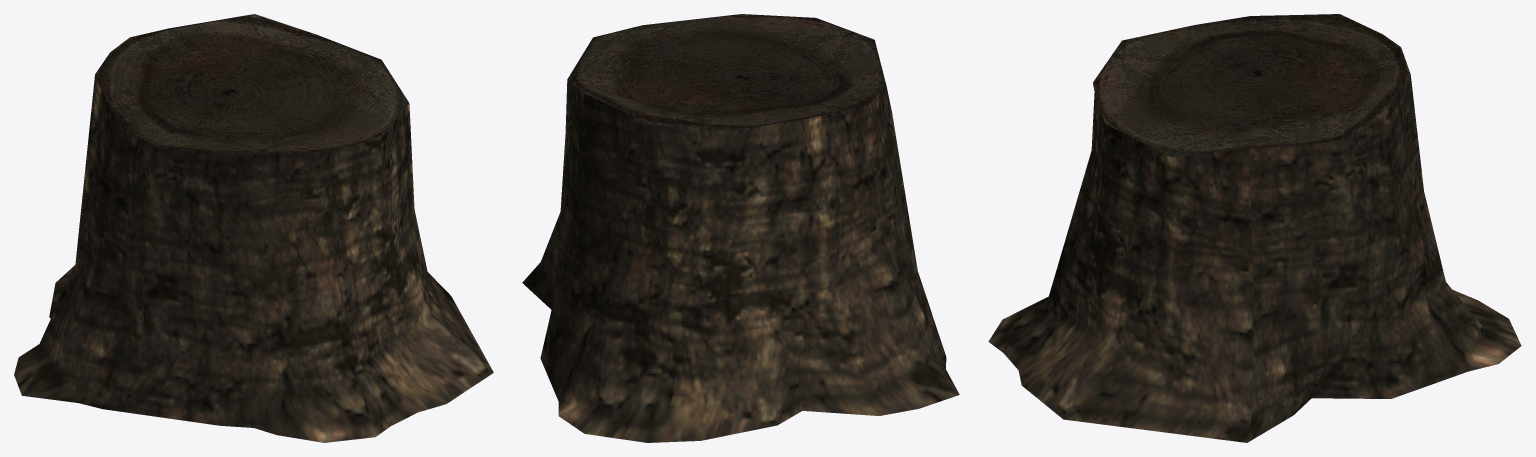
Rendered from tree_stump_1.obj.
3 renders of one model, left to right at view 1: azimuth 30°, elevation 25°; view 2: azimuth 150°, elevation 25°; view 3: azimuth 270°, elevation 25°, orthographic. The views are drawn at different scales.
Parts seen in each view (by area): view 1: tree_stump_1; view 2: tree_stump_1; view 3: tree_stump_1.
Boxes of the visible parts, box(x1,y1,x2,y2) form: tree_stump_1: box(14, 14, 493, 442); tree_stump_1: box(522, 14, 959, 442); tree_stump_1: box(988, 14, 1521, 442).
Size of the model in its own units: 0.8786 by 0.524 by 0.929.
